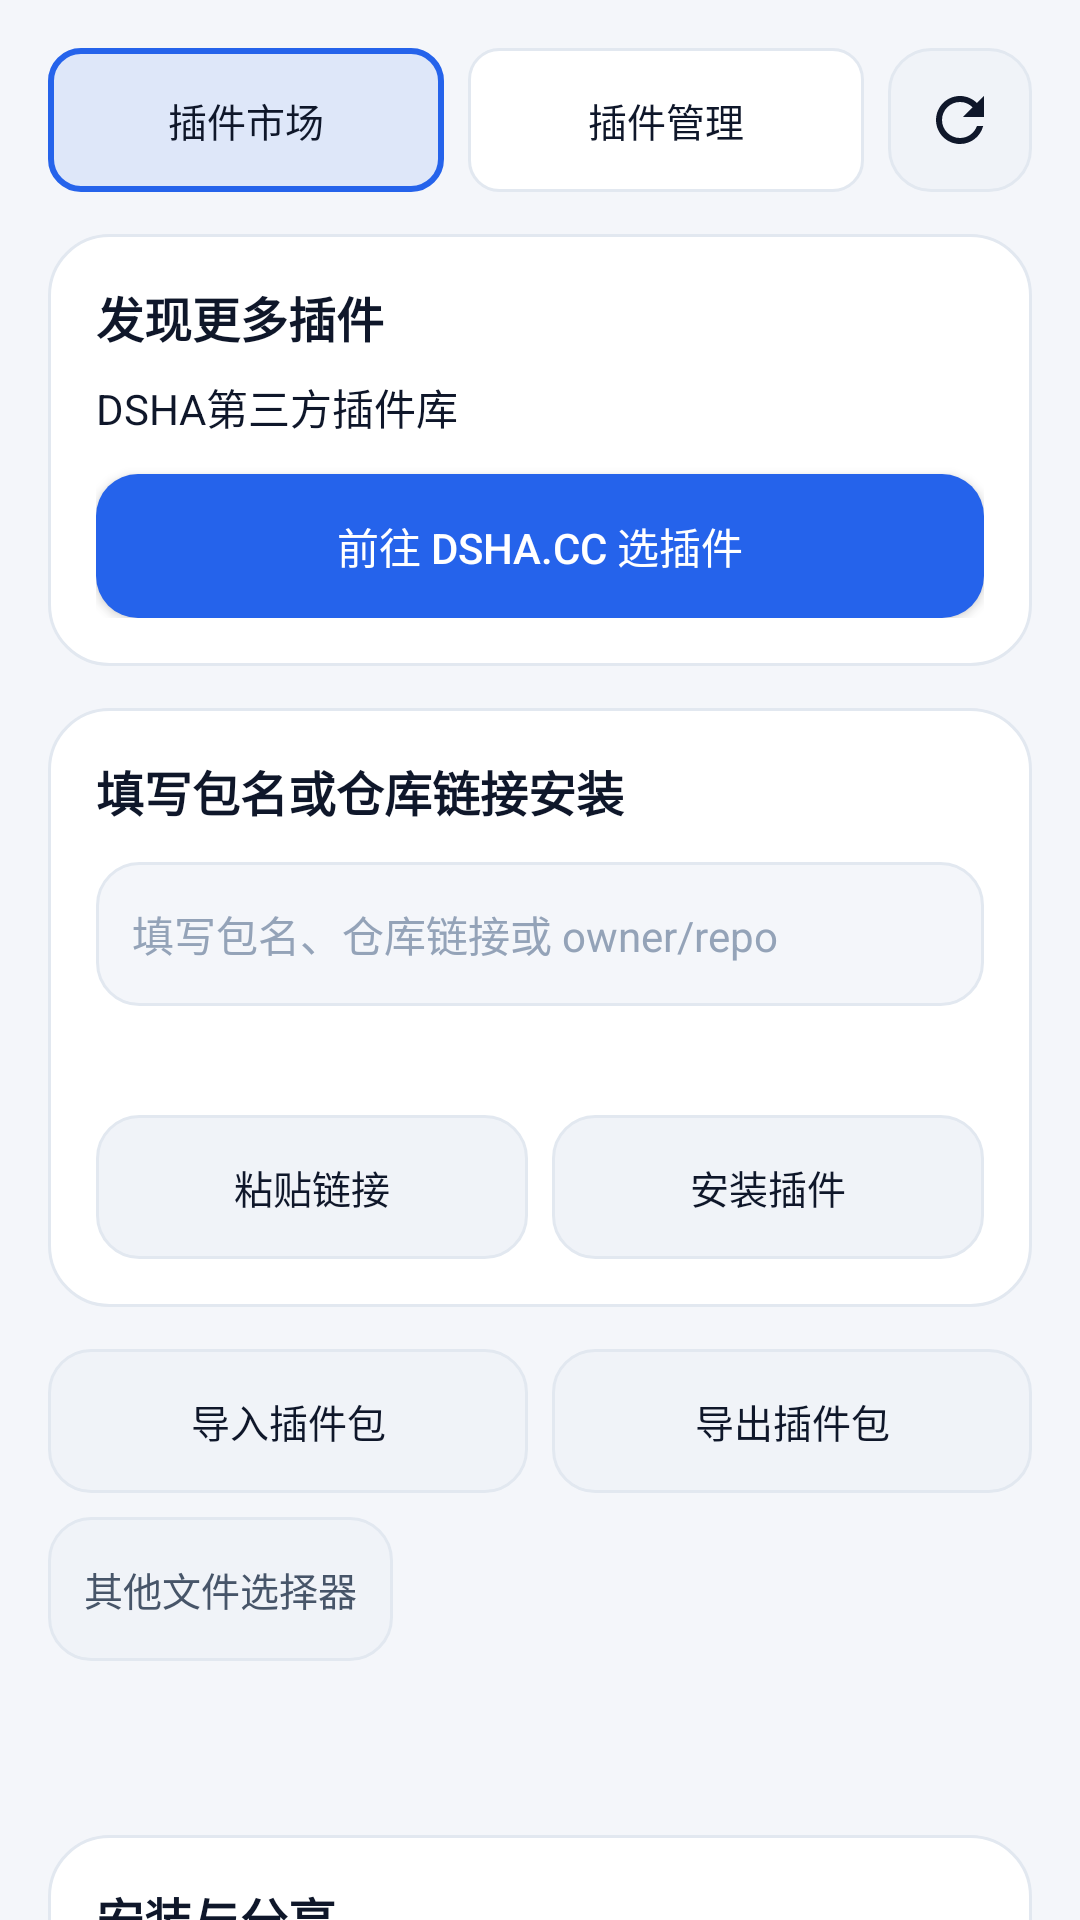

Icons on this 1080px×1920px Android screen, each with the point to tap as (x,y):
刷新插件状态: (960,120)
